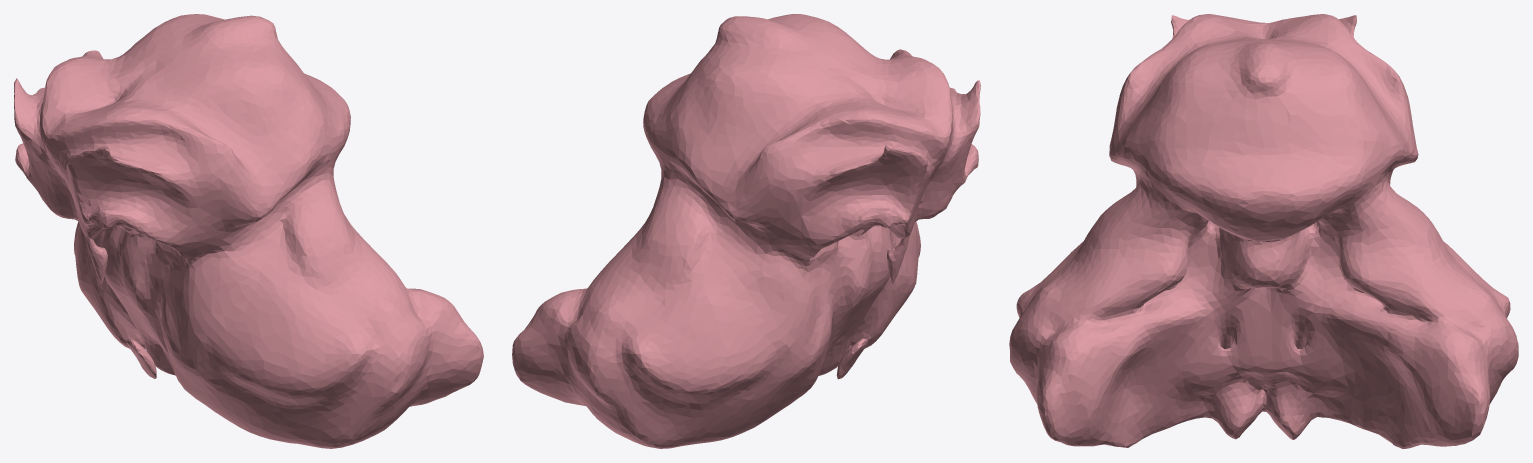
3 renders of one model, left to right at view 1: azimuth 30°, elevation 25°; view 2: azimuth 150°, elevation 25°; view 3: azimuth 270°, elevation 25°, orthographic.
Visible parts, largest first — view 1: 1129.obj; view 2: 1129.obj; view 3: 1129.obj.
Boxes of the visible parts, box(x1,y1,x2,y2) form: 1129.obj: box(14, 14, 483, 448); 1129.obj: box(512, 14, 980, 448); 1129.obj: box(1009, 14, 1518, 448).
Bounding box in the file's own units: 4519 × 4814 × 5872.
